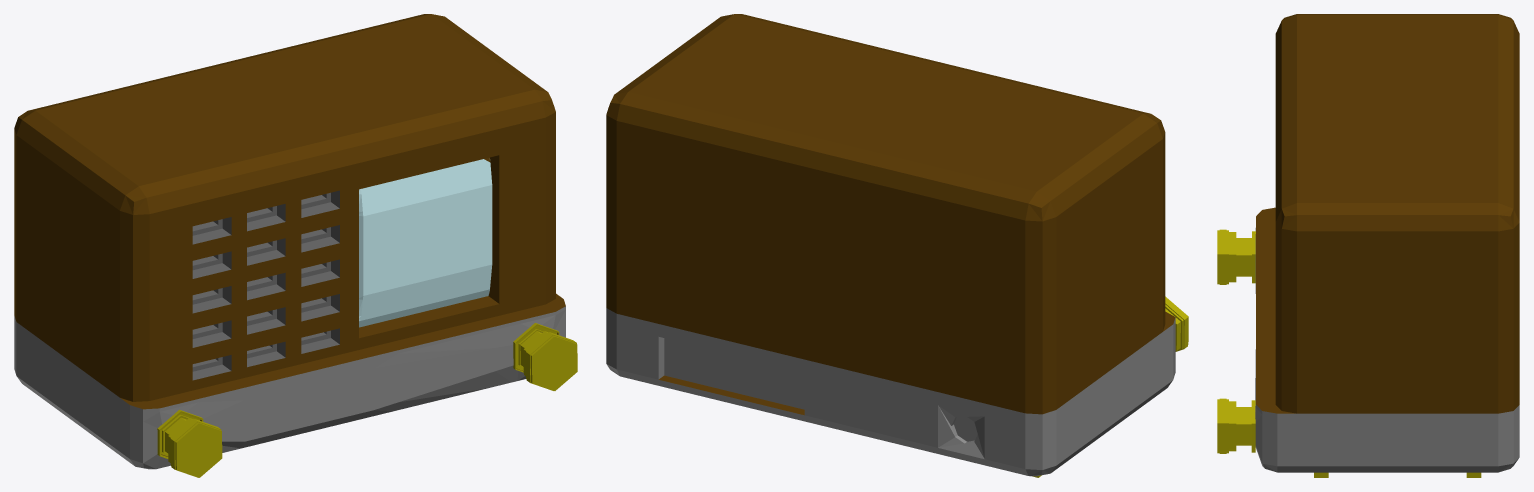
Rendered from RadioT.fbx.
3 renders of one model, left to right at view 1: azimuth 30°, elevation 25°; view 2: azimuth 150°, elevation 25°; view 3: azimuth 270°, elevation 25°, orthographic. The views are drawn at different scales.
Parts seen in each view (by area): view 1: polySurface1, polySurface2, polySurface3; view 2: polySurface1, polySurface3; view 3: polySurface1, polySurface2, polySurface3.
Part boxes in pixels (x1,y1,x2,y2): polySurface1: (14,14,565,469); polySurface2: (520,331,577,390); polySurface3: (165,417,222,477); polySurface1: (606,14,1175,477); polySurface3: (1165,296,1188,351); polySurface1: (1251,14,1519,477); polySurface2: (1217,398,1251,453); polySurface3: (1217,229,1251,284).
Size of the model in its own units: 28 by 17.6 by 17.34.
